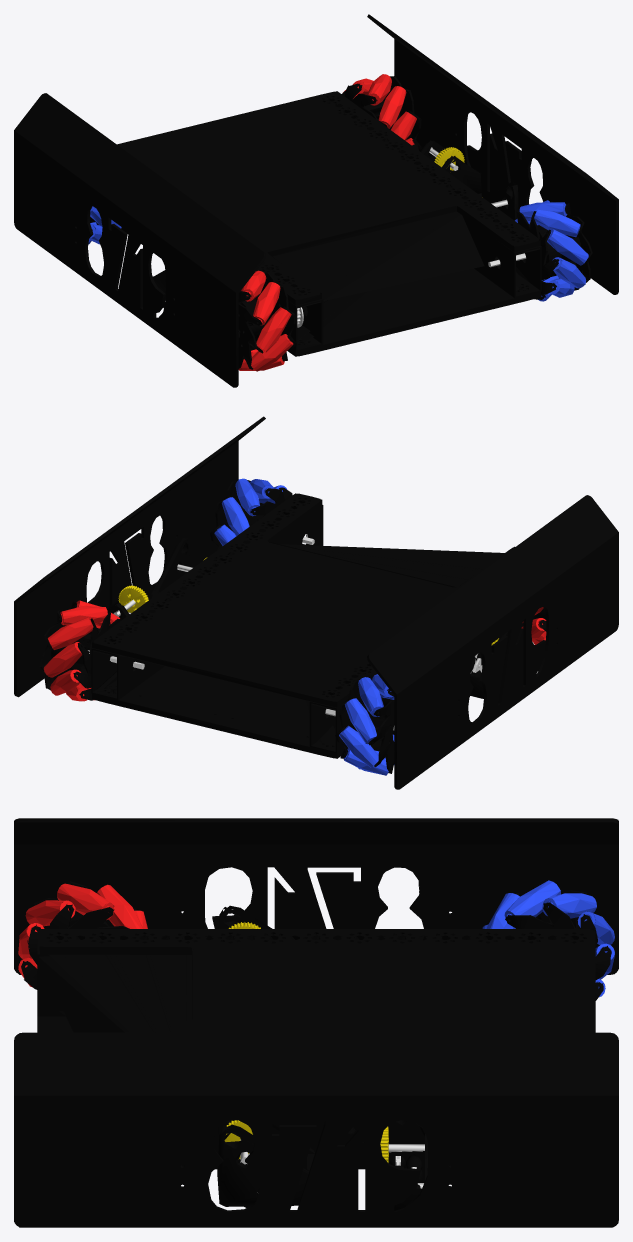
Rendered from MecanumDriveOptimized.fbx.
The picture shows the model from 3 angles, top to bottom: view 1: azimuth 30°, elevation 25°; view 2: azimuth 150°, elevation 25°; view 3: azimuth 270°, elevation 25°; orthographic projection. The views are drawn at different scales.
Parts seen in each view (by area): view 1: Drivetrain V4.000, Drivetrain V4.097, Drivetrain V4.101, Drivetrain V4.392, Drivetrain V4.687, Drivetrain V4.393, Drivetrain V4.096, Drivetrain V4.270, Drivetrain V4.002, Drivetrain V4.685, Drivetrain V4.435, Drivetrain V4.283 (+4 smaller); view 2: Drivetrain V4.000, Drivetrain V4.097, Drivetrain V4.101, Drivetrain V4.686, Drivetrain V4.393, Drivetrain V4.687, Drivetrain V4.002, Drivetrain V4.269, Drivetrain V4.434, Drivetrain V4.436, Drivetrain V4.271, Drivetrain V4.409 (+4 smaller); view 3: Drivetrain V4.101, Drivetrain V4.000, Drivetrain V4.097, Drivetrain V4.002, Drivetrain V4.686, Drivetrain V4.392, Drivetrain V4.096, Drivetrain V4.448, Drivetrain V4.408, Drivetrain V4.282, Drivetrain V4.684, Drivetrain V4.268 (+2 smaller).
Boxes of the visible parts, x1,y1,x2,y2 form: Drivetrain V4.000: [117, 91, 541, 356]; Drivetrain V4.097: [14, 93, 265, 387]; Drivetrain V4.101: [367, 14, 618, 294]; Drivetrain V4.392: [238, 272, 296, 369]; Drivetrain V4.687: [516, 201, 592, 299]; Drivetrain V4.393: [342, 75, 422, 149]; Drivetrain V4.096: [412, 140, 481, 193]; Drivetrain V4.270: [256, 307, 291, 352]; Drivetrain V4.002: [475, 181, 518, 220]; Drivetrain V4.685: [534, 208, 580, 237]; Drivetrain V4.435: [547, 229, 588, 265]; Drivetrain V4.283: [378, 86, 406, 128]; Drivetrain V4.000: [91, 493, 514, 758]; Drivetrain V4.097: [367, 495, 618, 789]; Drivetrain V4.101: [14, 416, 265, 697]; Drivetrain V4.686: [335, 675, 394, 773]; Drivetrain V4.393: [39, 602, 122, 700]; Drivetrain V4.687: [210, 480, 292, 547]; Drivetrain V4.002: [151, 537, 221, 595]; Drivetrain V4.269: [48, 617, 93, 649]; Drivetrain V4.434: [344, 698, 376, 744]; Drivetrain V4.436: [339, 725, 378, 767]; Drivetrain V4.271: [44, 642, 82, 677]; Drivetrain V4.409: [60, 605, 107, 625]; Drivetrain V4.101: [14, 1032, 618, 1227]; Drivetrain V4.000: [37, 929, 595, 1169]; Drivetrain V4.097: [14, 818, 618, 974]; Drivetrain V4.002: [217, 1120, 314, 1206]; Drivetrain V4.686: [486, 880, 611, 1000]; Drivetrain V4.392: [21, 881, 139, 989]; Drivetrain V4.096: [388, 1120, 427, 1210]; Drivetrain V4.448: [504, 880, 560, 918]; Drivetrain V4.408: [57, 883, 114, 919]; Drivetrain V4.282: [96, 884, 143, 928]; Drivetrain V4.684: [542, 893, 596, 918]; Drivetrain V4.268: [25, 900, 75, 926].
Bounding box in the file's own units: 44.18 × 15.07 × 44.37.
